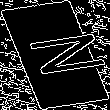N_E: (6, 30, 104, 80)
